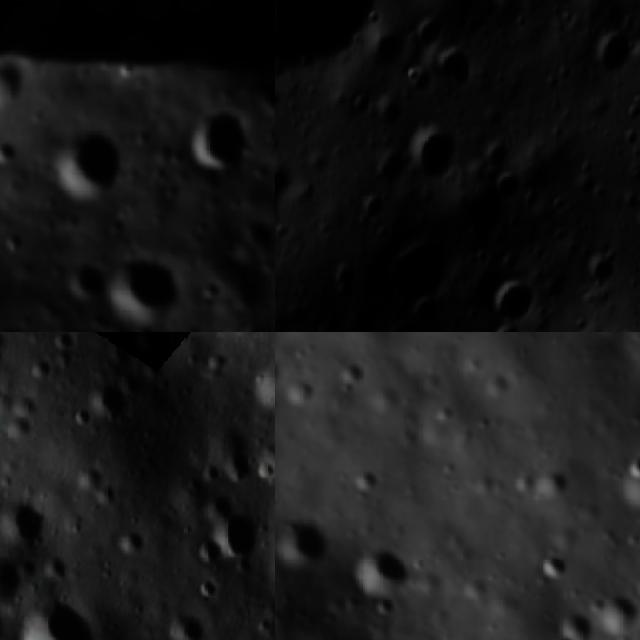crater: (0, 0, 275, 168), (275, 0, 414, 100), (42, 116, 141, 207), (369, 229, 470, 318), (104, 238, 189, 326), (185, 101, 262, 178), (405, 115, 472, 201), (351, 536, 418, 598), (429, 32, 491, 93), (57, 246, 116, 306), (21, 599, 104, 640), (275, 516, 335, 567), (605, 441, 640, 522), (488, 274, 536, 332), (217, 507, 269, 560), (585, 26, 631, 79), (0, 496, 47, 547), (593, 584, 640, 635), (84, 378, 136, 420), (0, 557, 36, 612), (529, 543, 570, 588), (245, 352, 275, 408), (550, 607, 596, 640), (167, 612, 213, 640), (412, 13, 444, 51), (0, 219, 31, 255), (200, 491, 236, 522), (193, 537, 227, 569), (132, 332, 178, 354), (368, 592, 401, 619), (0, 132, 25, 163), (260, 435, 275, 486)
